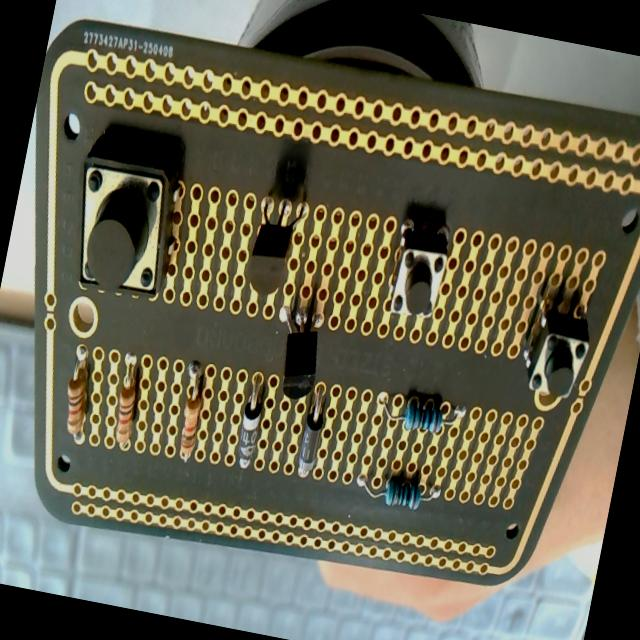diode: (222, 364, 276, 483), (290, 374, 333, 488)
resistor: (53, 331, 113, 453), (101, 342, 157, 472), (348, 457, 458, 520), (164, 356, 218, 482), (371, 386, 474, 442)
switch: (56, 134, 206, 324), (514, 304, 600, 412), (378, 230, 458, 328)
transistor: (230, 175, 310, 302), (265, 295, 336, 407)
